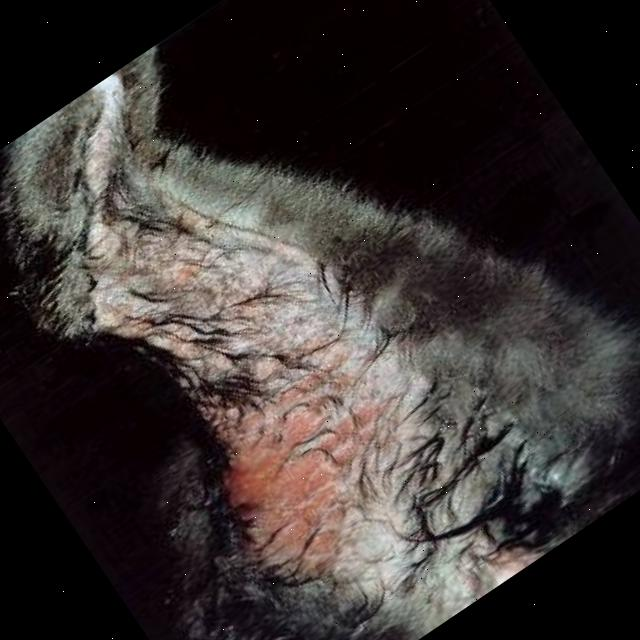cat-hairloss: (162, 314, 430, 584), (48, 196, 205, 344)
